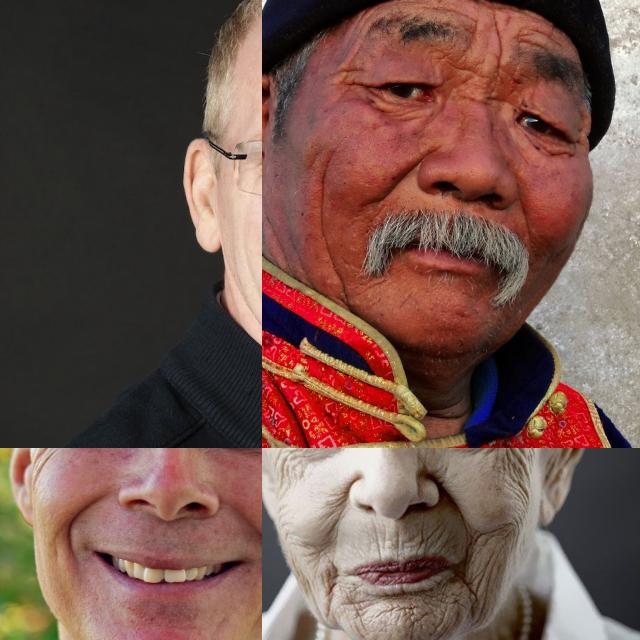chin: (387, 604, 437, 640), (342, 592, 368, 638)
crows_feet: (334, 58, 372, 110)
forehead: (518, 25, 566, 53), (423, 0, 475, 25)
frown_line: (446, 54, 478, 90), (487, 30, 507, 76)
gummy_smile: (59, 486, 109, 540), (438, 478, 476, 534), (382, 150, 420, 200), (325, 482, 351, 540), (240, 512, 262, 566), (512, 189, 532, 245)
masseter: (306, 164, 340, 256), (268, 449, 304, 499), (503, 448, 537, 495), (491, 524, 515, 574), (328, 260, 356, 300)
sad_smile: (454, 566, 480, 620), (320, 566, 340, 618)
smoker_lines: (354, 522, 446, 554)
